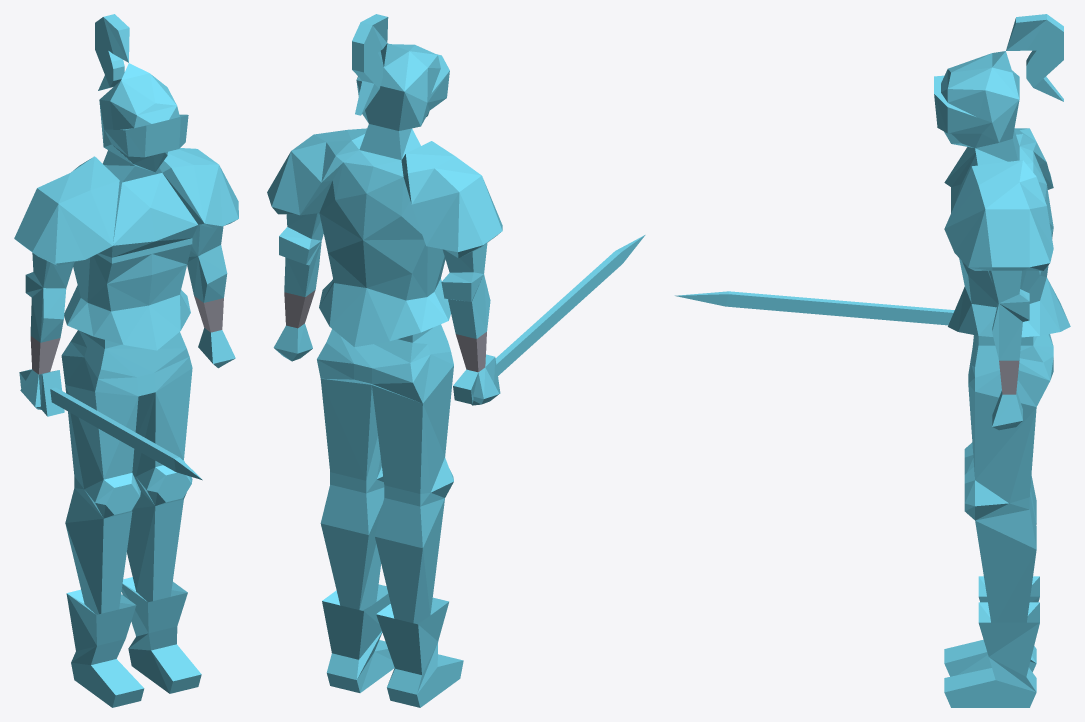
Rendered from ice_warrior.gltf.
3 views of the same model, side by side, from view 1: azimuth 30°, elevation 25°; view 2: azimuth 150°, elevation 25°; view 3: azimuth 270°, elevation 25° (orthographic). The views are drawn at different scales.
Size of the model in its own units: 72 by 216 by 116.
1 material, 1 textured.
